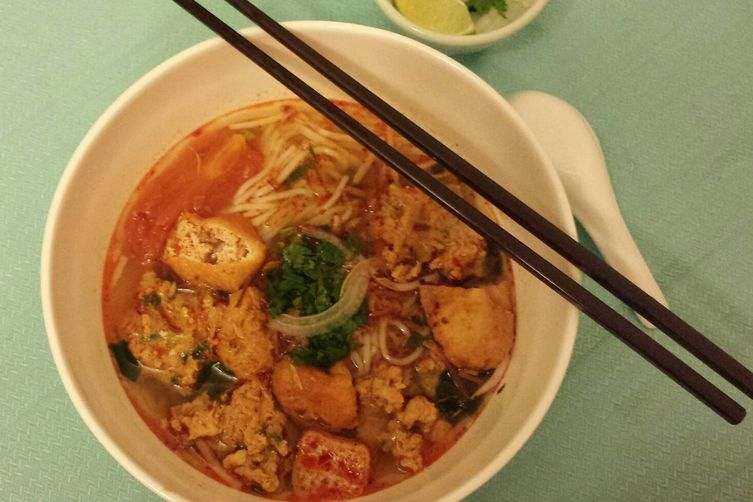onion: (276, 243, 371, 350)
rieu: (132, 277, 274, 386), (182, 382, 286, 490), (353, 363, 434, 466)
tofu: (411, 275, 532, 376), (168, 213, 265, 287)
tomato: (126, 130, 259, 238)
